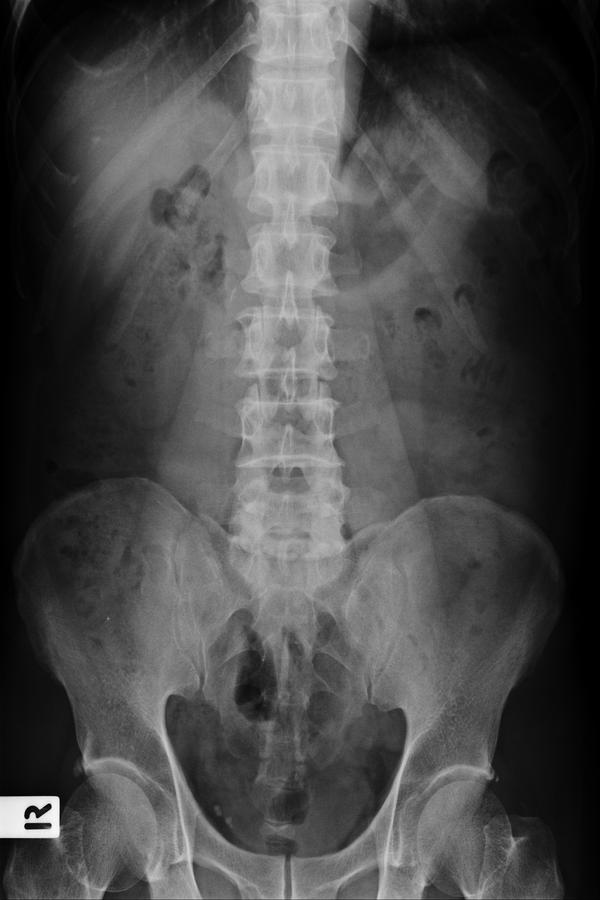lumbar scoliosis: (220, 11, 354, 553)
